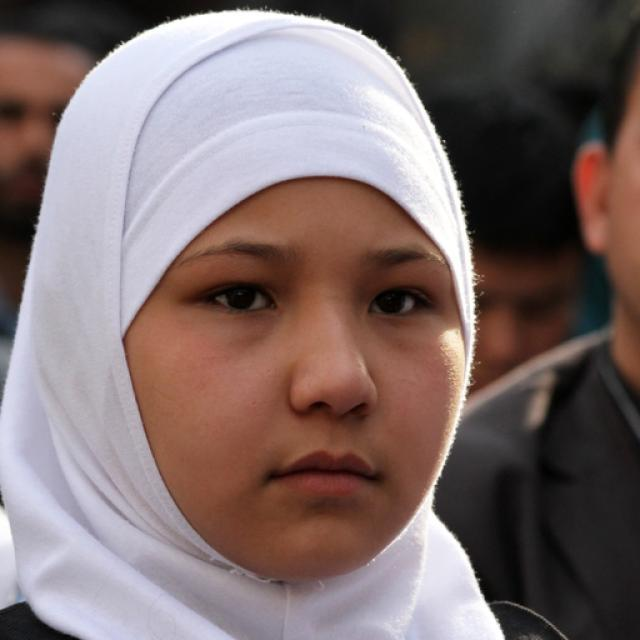sad: (120, 172, 470, 584)
